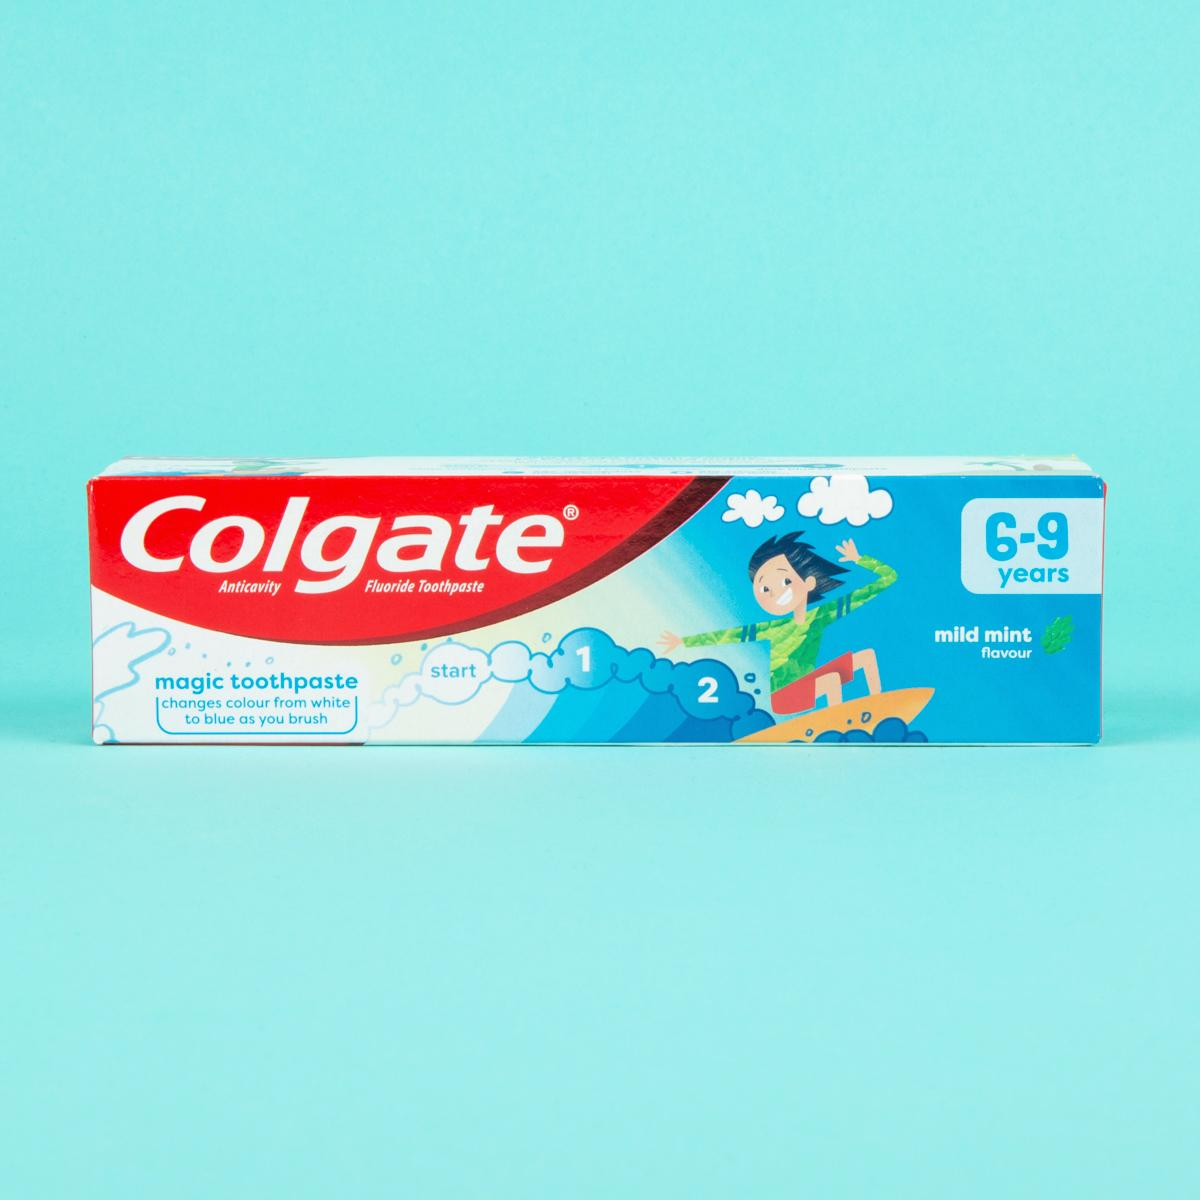toothpaste: (82, 444, 1121, 764)
